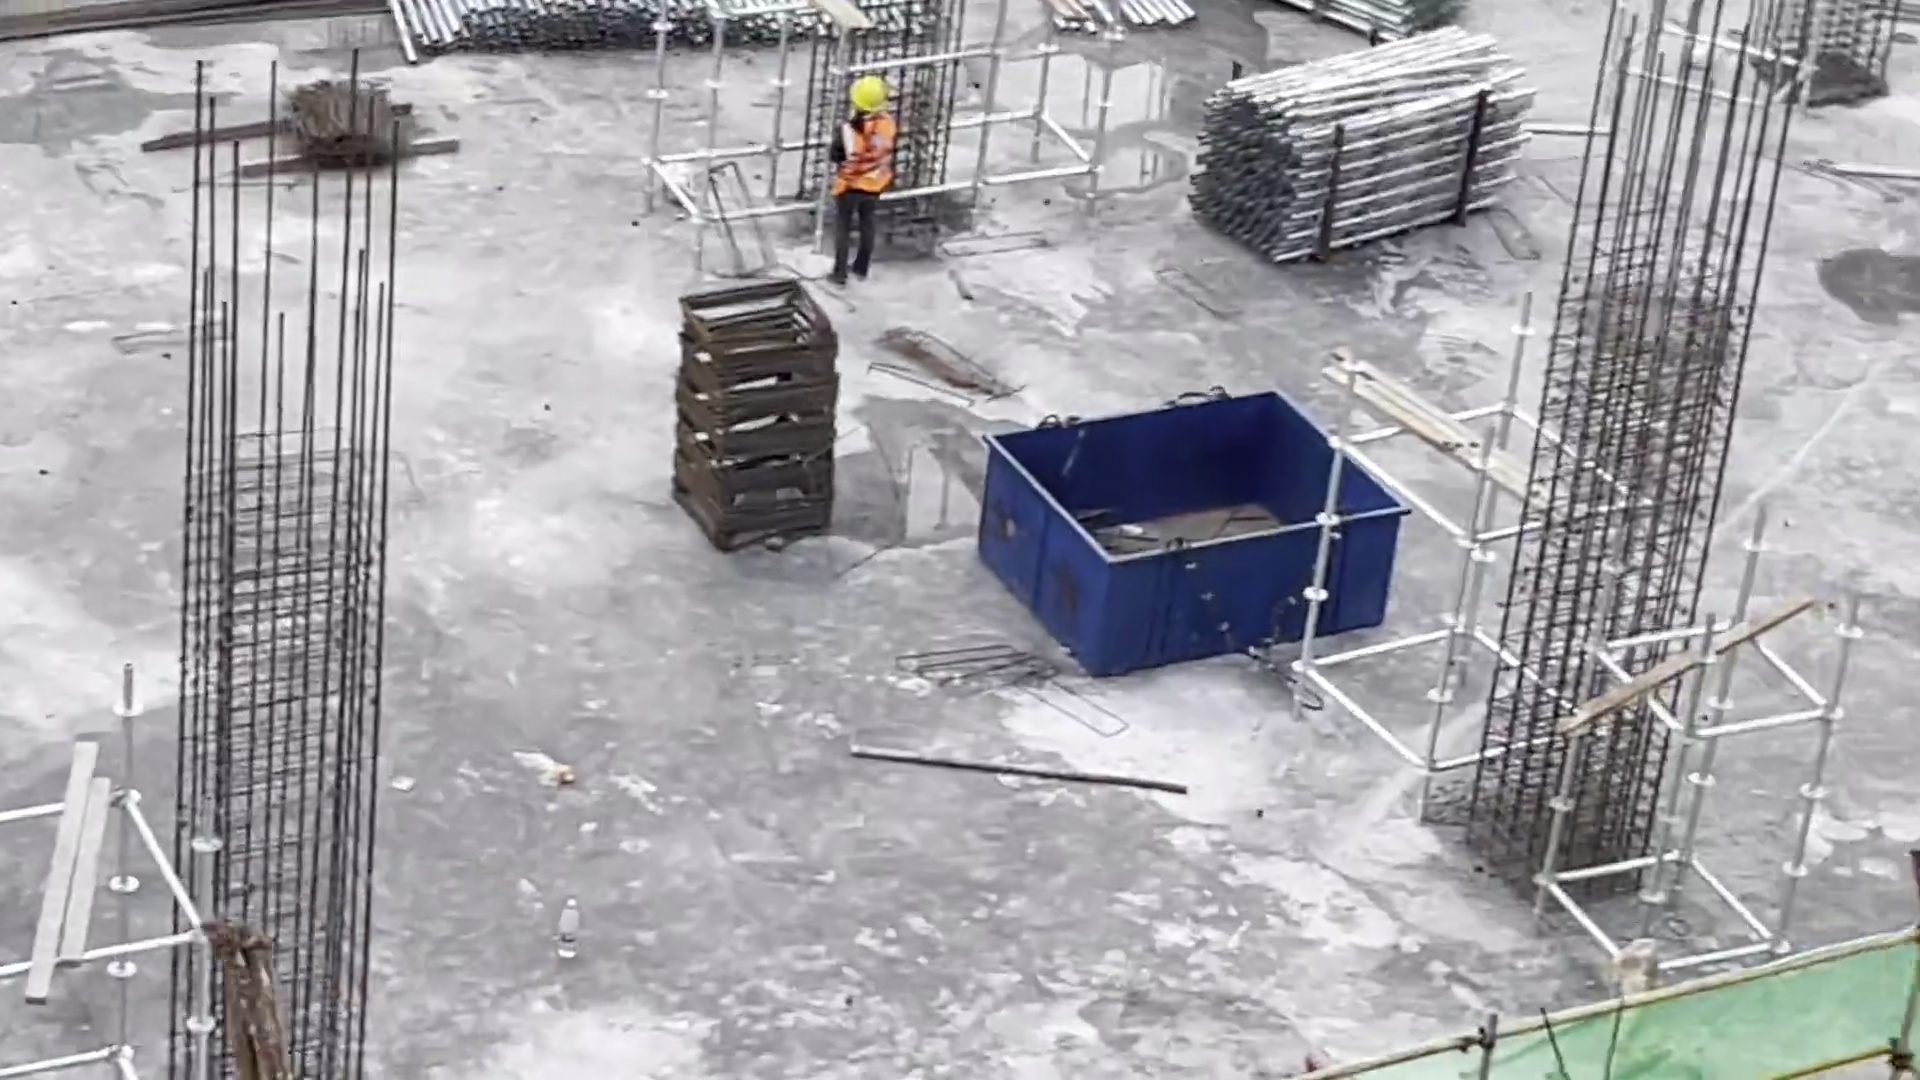helmet: (854, 78, 889, 115)
hopper: (973, 376, 1412, 679)
person: (830, 63, 896, 287)
scaffold: (1186, 23, 1582, 265)
vest: (837, 112, 893, 195)
